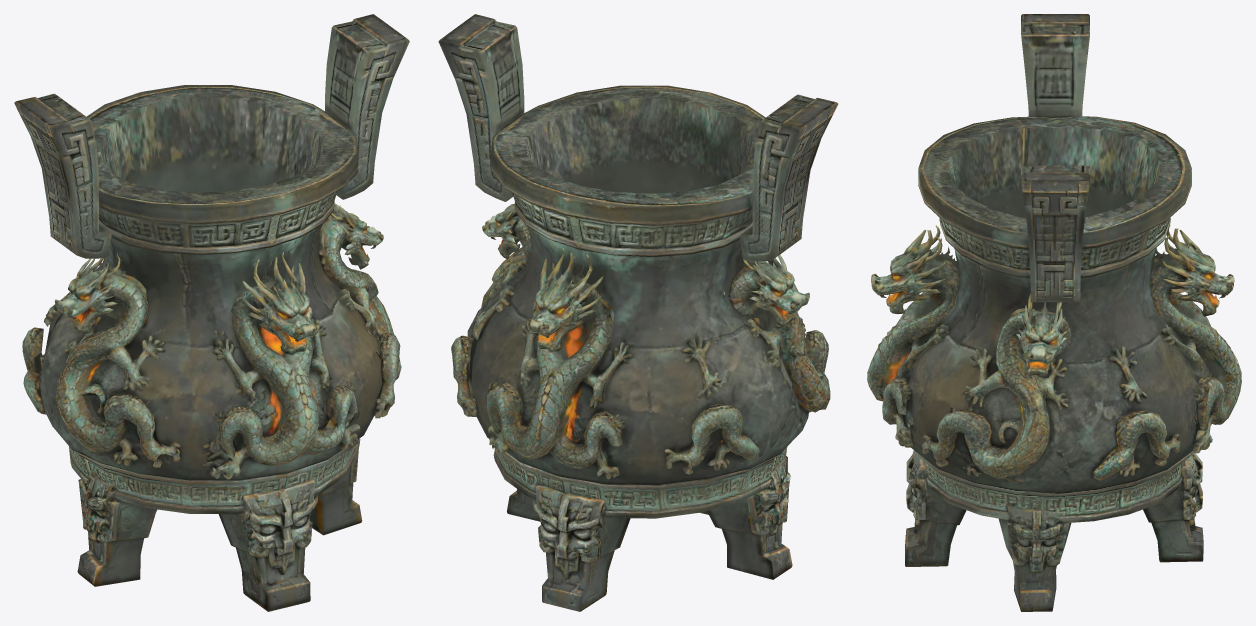
Rendered from SM_Tripo_ZhurongDing.glb.
3 renders of one model, left to right at view 1: azimuth 30°, elevation 25°; view 2: azimuth 150°, elevation 25°; view 3: azimuth 270°, elevation 25°, orthographic. The views are drawn at different scales.
Visible parts, largest first — view 1: SM_Tripo_ZhurongDing_LOD0; view 2: SM_Tripo_ZhurongDing_LOD0; view 3: SM_Tripo_ZhurongDing_LOD0.
Boxes of the visible parts, x1,y1,x2,y2 form: SM_Tripo_ZhurongDing_LOD0: (14,14,409,611); SM_Tripo_ZhurongDing_LOD0: (438,14,838,611); SM_Tripo_ZhurongDing_LOD0: (867,14,1241,611).
Size of the model in its own units: 5.37 by 6.83 by 5.04.
Materials: 1 (1 with a texture image).
